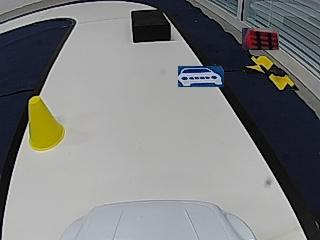block: (132, 10, 171, 42)
cone: (28, 97, 66, 150)
